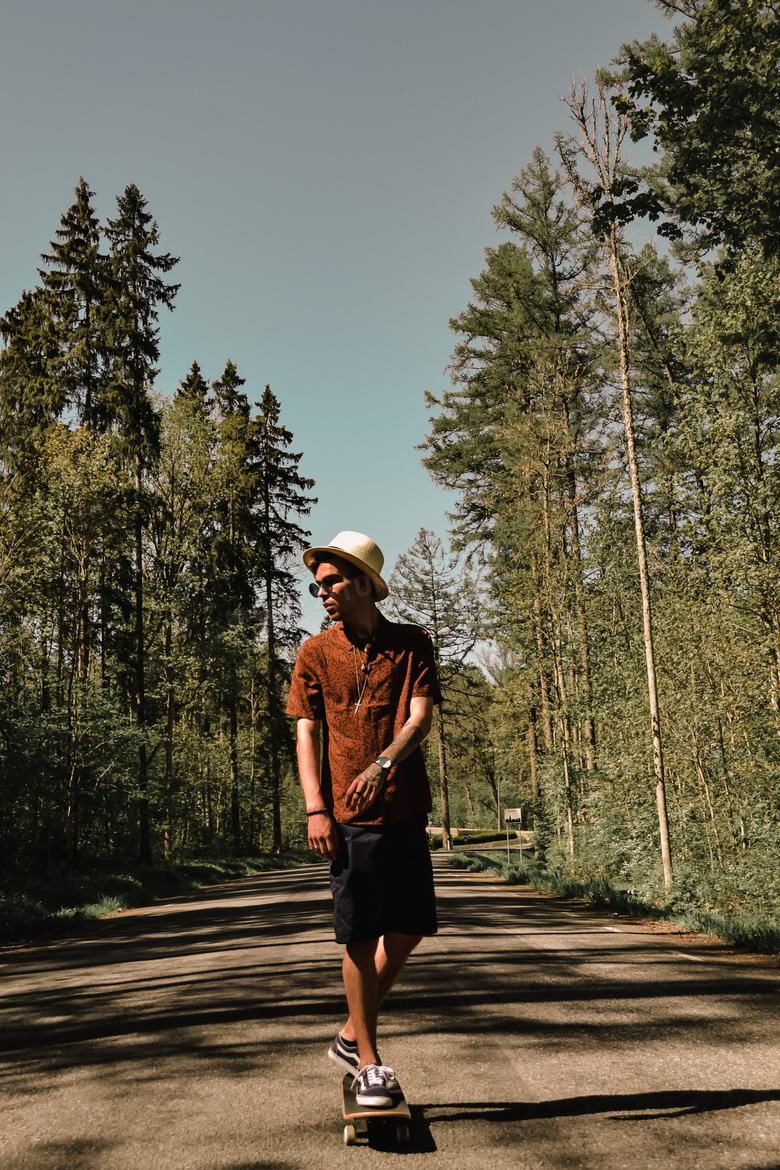person: (195, 499, 477, 1109)
